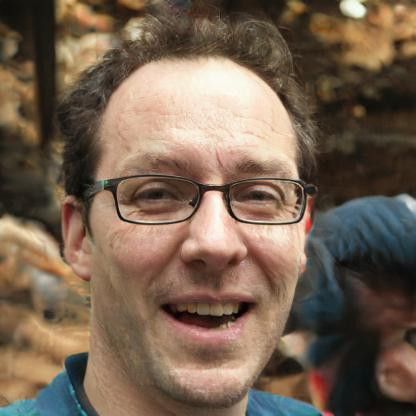glasses: (94, 171, 312, 232)
